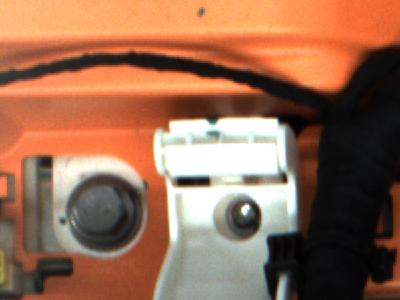nut_b: (59, 172, 152, 256)
